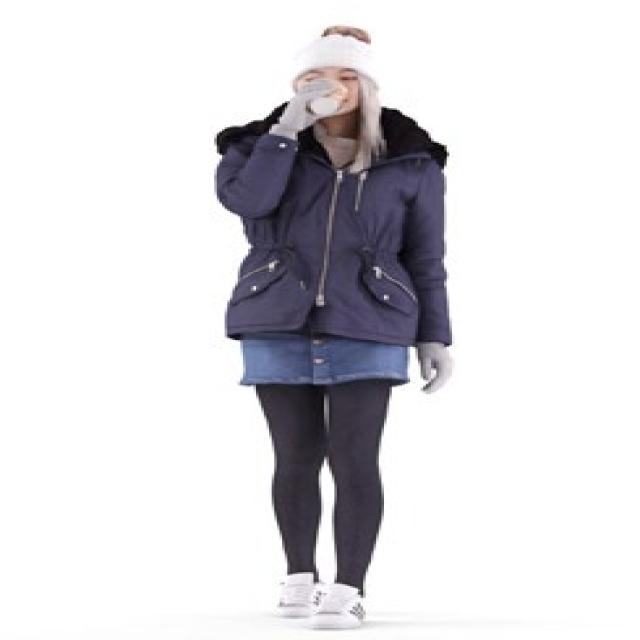standing: (201, 21, 456, 640)
